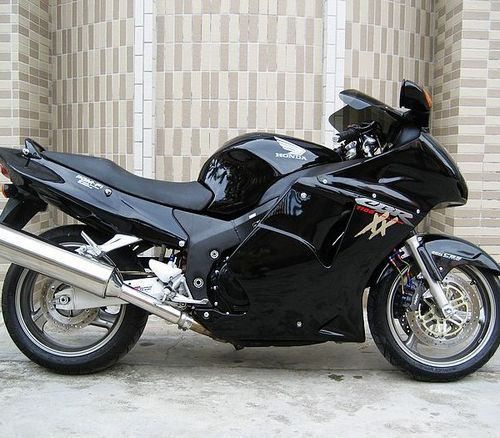摩托车: (2, 75, 500, 387)
